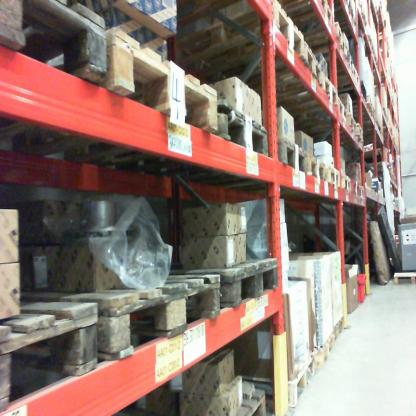pallet: (11, 23, 220, 179), (19, 265, 229, 369), (2, 4, 109, 158), (122, 97, 273, 185), (0, 294, 112, 412), (158, 248, 287, 320), (178, 7, 303, 80), (220, 32, 323, 97), (257, 67, 337, 115), (179, 381, 271, 416), (274, 128, 306, 182), (291, 93, 347, 123), (310, 25, 355, 61), (270, 2, 337, 25), (307, 48, 357, 72), (308, 152, 328, 191), (333, 70, 364, 92), (324, 160, 343, 192), (335, 163, 350, 193), (387, 271, 415, 286), (367, 98, 379, 125), (350, 176, 361, 202), (362, 83, 375, 105), (347, 111, 356, 136), (356, 124, 365, 147), (356, 184, 367, 202)
small_load_carrier: (354, 274, 370, 303)
